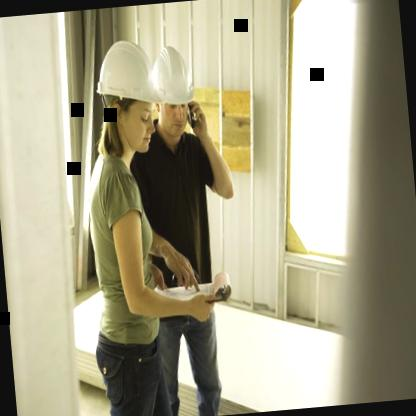helmet: (93, 37, 168, 156), (147, 42, 200, 136)
